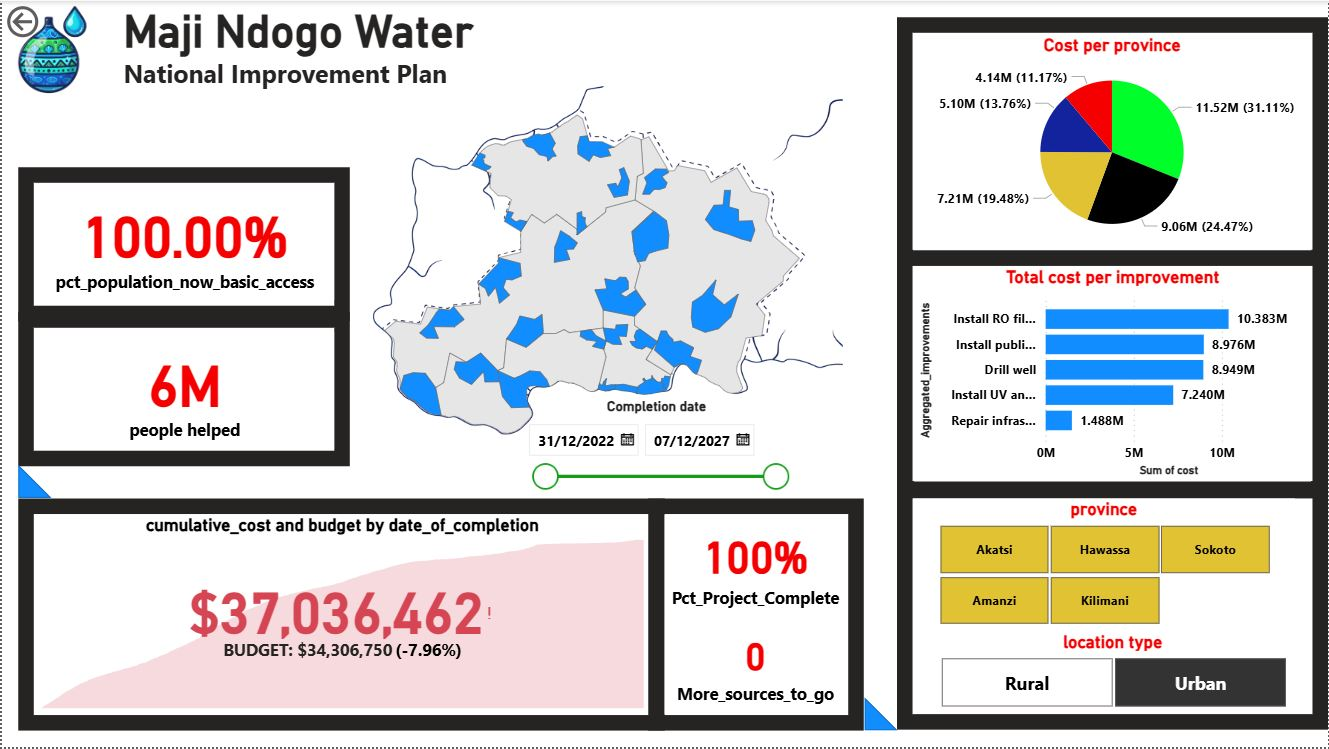

Layout of this report page (visuals, bound fields, positions):
{"tool":"powerbi","page":{"name":"IMPROVEMENT PLAN","canvas":[1280,720],"ordinal":0},"visuals":[{"type":"textbox","box":[0,0,144,144],"z":0},{"type":"shape","box":[16,160,320,148.6],"z":0,"group":"g1"},{"type":"image","box":[0,0,96,96],"z":1000},{"type":"shape","box":[16,299.4,320,148.6],"z":1000,"group":"g1"},{"type":"textbox","box":[112,0,384,96],"z":2000},{"type":"shape","box":[864,16,416,240],"z":2000,"group":"g2"},{"type":"group","id":"g1","title":"Group 1","box":[16,160,320,288],"z":3000},{"type":"shape","box":[832,672,32,32],"z":4000},{"type":"shape","box":[16,448,32,32],"z":5000},{"type":"shape","box":[16,480,624,224],"z":6000},{"type":"group","id":"g2","title":"Group 2","box":[864,16,416,688],"z":7000},{"type":"shape","box":[864,240,416,240],"z":7000,"group":"g2"},{"type":"group","id":"g3","title":"Group 4","box":[336,64,480,400],"z":8000},{"type":"image","box":[349.7,64,466.3,400],"z":8000,"group":"g3"},{"type":"shape","box":[864,464,416,240],"z":8000,"group":"g2"},{"type":"shapeMap","fields":{"Category":["location.town_name"],"Value":["project_progress.Pct_Project_Complete"]},"box":[336,88.2,466.3,351.5],"z":9000,"group":"g3"},{"type":"slicer","title":"Completion date","fields":{"Values":["project_progress.date_of_completion"]},"box":[496,384,272,96],"z":9000},{"type":"kpi","title":"cumulative_cost and  budget by date_of_completion","fields":{"Goal":["project_progress.cumulative_budget"],"TrendLine":["project_progress.date_of_completion"],"Indicator":["project_progress.cumulative_cost"]},"box":[32,496,592,192],"z":10000},{"type":"card","fields":{"Values":["water_source.pct_population_now_basic_access"]},"box":[32,176,288,112],"z":11000},{"type":"card","fields":{"Values":["water_source.population_now_basic_access"]},"box":[32,320,288,112],"z":12000},{"type":"card","fields":{"Values":["project_progress.More_sources_to_go"]},"box":[640,592,176,96],"z":13000},{"type":"shape","box":[624,480,208,224],"z":14000},{"type":"slicer","title":"location type","fields":{"Values":["location.location_type"]},"box":[880.6,608,382.7,80],"z":14003,"group":"g2"},{"type":"card","fields":{"Values":["project_progress.Pct_Project_Complete"]},"box":[640,496,176,96],"z":15000},{"type":"slicer","title":"province","fields":{"Values":["location.province_name"]},"box":[880,480,368,128],"z":16000},{"type":"barChart","title":"Total cost per improvement","fields":{"Category":["project_progress.Aggregated_improvements"],"Y":["Sum(project_progress.cost)"]},"box":[880.6,256,382.7,208],"z":16001,"group":"g2"},{"type":"pieChart","title":"Cost per province","fields":{"Category":["location.province_name"],"Y":["Sum(project_progress.cost)"]},"box":[880,32,384,208],"z":17000},{"type":"actionButton","box":[0,0,100,40],"z":18000}]}

Visuals, with their boxes in screenshot pixels (x1, y1, x2, y2), scaled from the page's 1280x720 canvas onto the 1329x749 screenshot:
textbox: bbox=(0, 0, 150, 150)
shape: bbox=(17, 166, 349, 321)
image: bbox=(0, 0, 100, 100)
shape: bbox=(17, 311, 349, 466)
textbox: bbox=(116, 0, 515, 100)
shape: bbox=(897, 17, 1328, 266)
"Group 1" group: bbox=(17, 166, 349, 466)
shape: bbox=(864, 699, 897, 732)
shape: bbox=(17, 466, 50, 499)
shape: bbox=(17, 499, 664, 732)
"Group 2" group: bbox=(897, 17, 1328, 732)
shape: bbox=(897, 250, 1328, 499)
"Group 4" group: bbox=(349, 67, 847, 483)
image: bbox=(363, 67, 847, 483)
shape: bbox=(897, 483, 1328, 732)
shapeMap - location.town_name x project_progress.Pct_Project_Complete: bbox=(349, 92, 833, 457)
"Completion date" slicer: bbox=(515, 399, 797, 499)
"cumulative_cost and  budget by date_of_completion" kpi: bbox=(33, 516, 648, 716)
card - water_source.pct_population_now_basic_access: bbox=(33, 183, 332, 300)
card - water_source.population_now_basic_access: bbox=(33, 333, 332, 449)
card - project_progress.More_sources_to_go: bbox=(664, 616, 847, 716)
shape: bbox=(648, 499, 864, 732)
"location type" slicer: bbox=(914, 632, 1312, 716)
card - project_progress.Pct_Project_Complete: bbox=(664, 516, 847, 616)
"province" slicer: bbox=(914, 499, 1296, 632)
"Total cost per improvement" barChart: bbox=(914, 266, 1312, 483)
"Cost per province" pieChart: bbox=(914, 33, 1312, 250)
actionButton: bbox=(0, 0, 104, 42)
